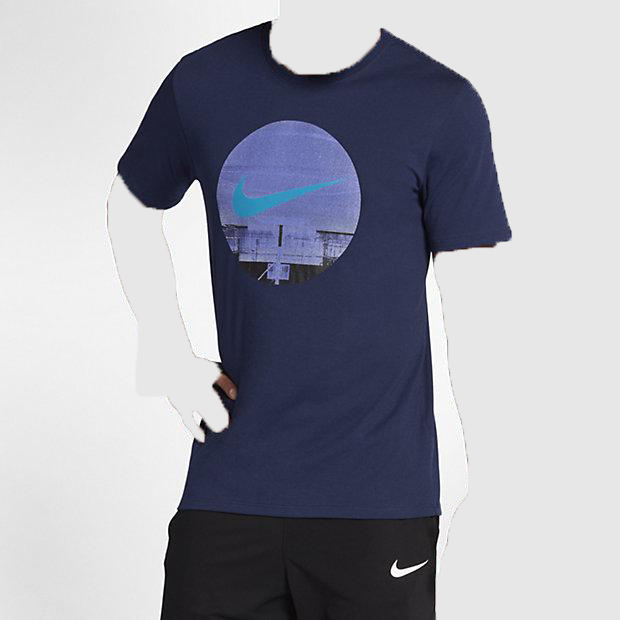teeshirt: (112, 15, 519, 523)
